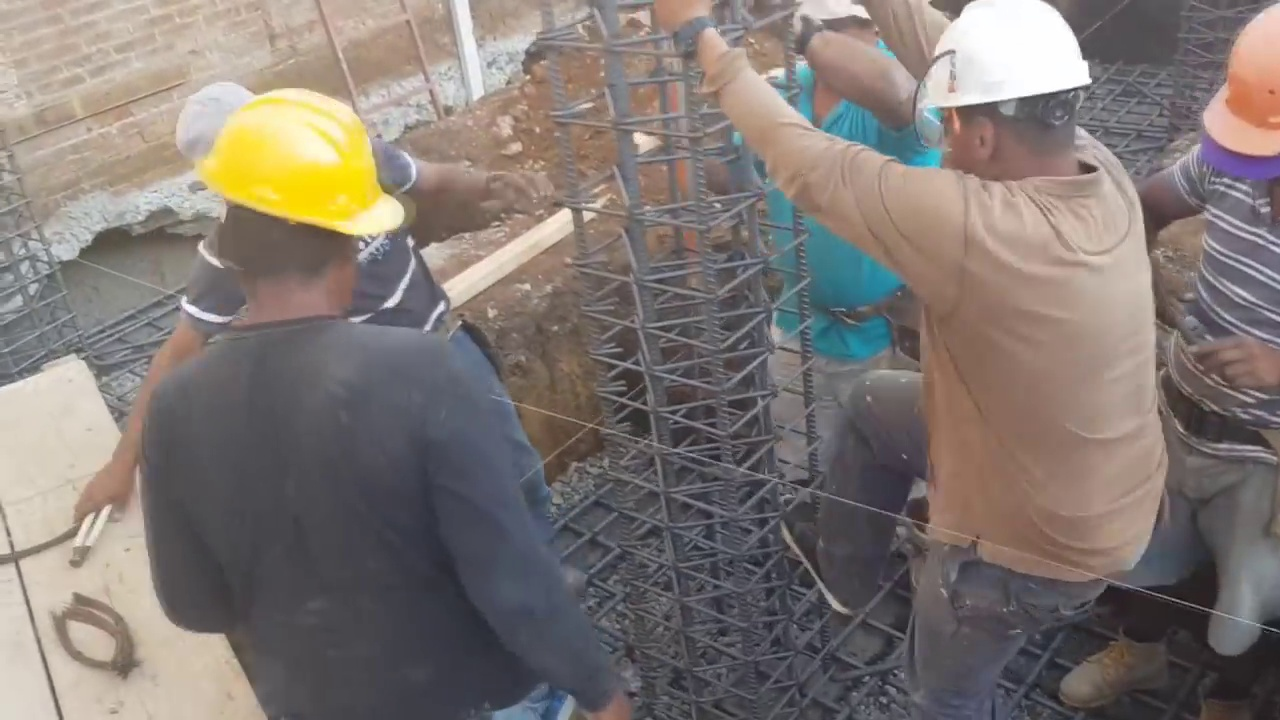helmet: (204, 84, 406, 245), (930, 4, 1093, 122), (1213, 16, 1280, 161)
helmet-off: (157, 72, 262, 184)
helmet-on: (164, 84, 408, 309), (932, 4, 1098, 192), (1206, 10, 1280, 214)
person: (651, 1, 1173, 719), (126, 44, 621, 720), (72, 74, 566, 552), (721, 1, 924, 525), (1135, 0, 1279, 720)
